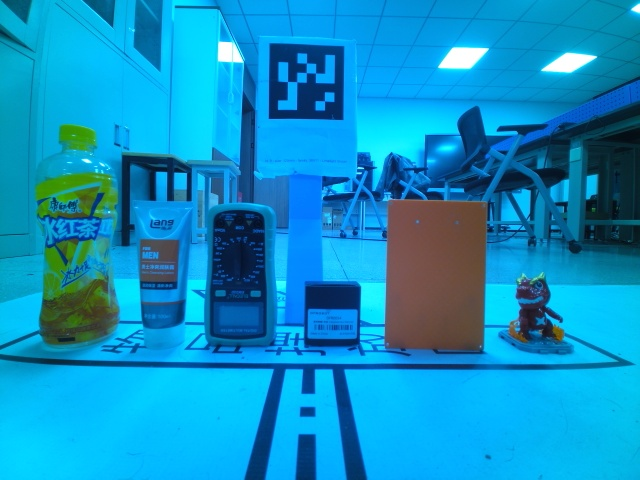banzi: (302, 279, 362, 348)
binghongcha: (497, 270, 576, 355)
dabao: (130, 199, 195, 351)
dianbiao: (35, 124, 120, 354)
hezi: (203, 202, 278, 349)
long: (384, 197, 485, 354)
